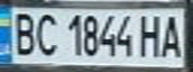1: (60, 10, 84, 56)
4: (115, 11, 139, 57), (100, 11, 121, 57)
8: (78, 11, 100, 57)
A: (157, 11, 187, 58)
B: (6, 9, 39, 56)
C: (30, 10, 60, 57)
H: (136, 11, 166, 58)
